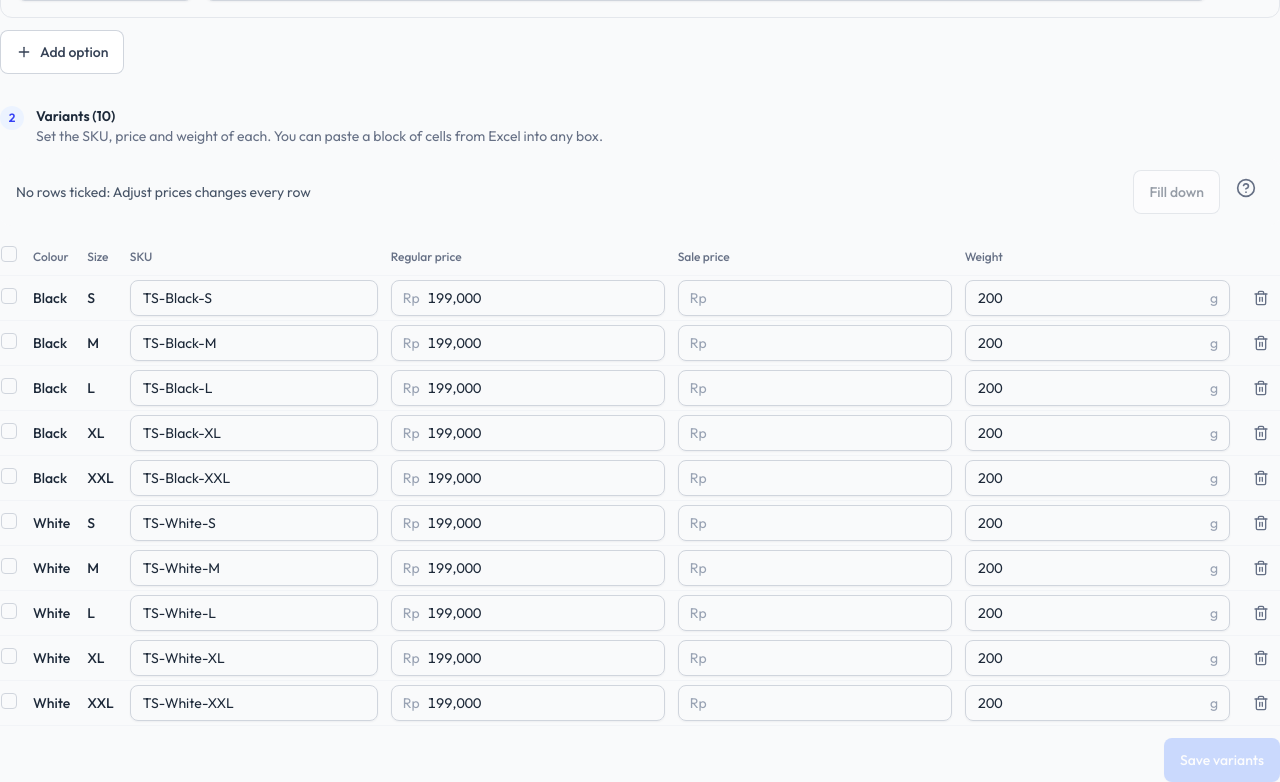
Test: VariantMatrix (P1-046) › brings removed variants back
(page scrolled)
Click the button named "Remove White / XXL": [1261, 703] box x1=1243 y1=685 x2=1279 y2=721
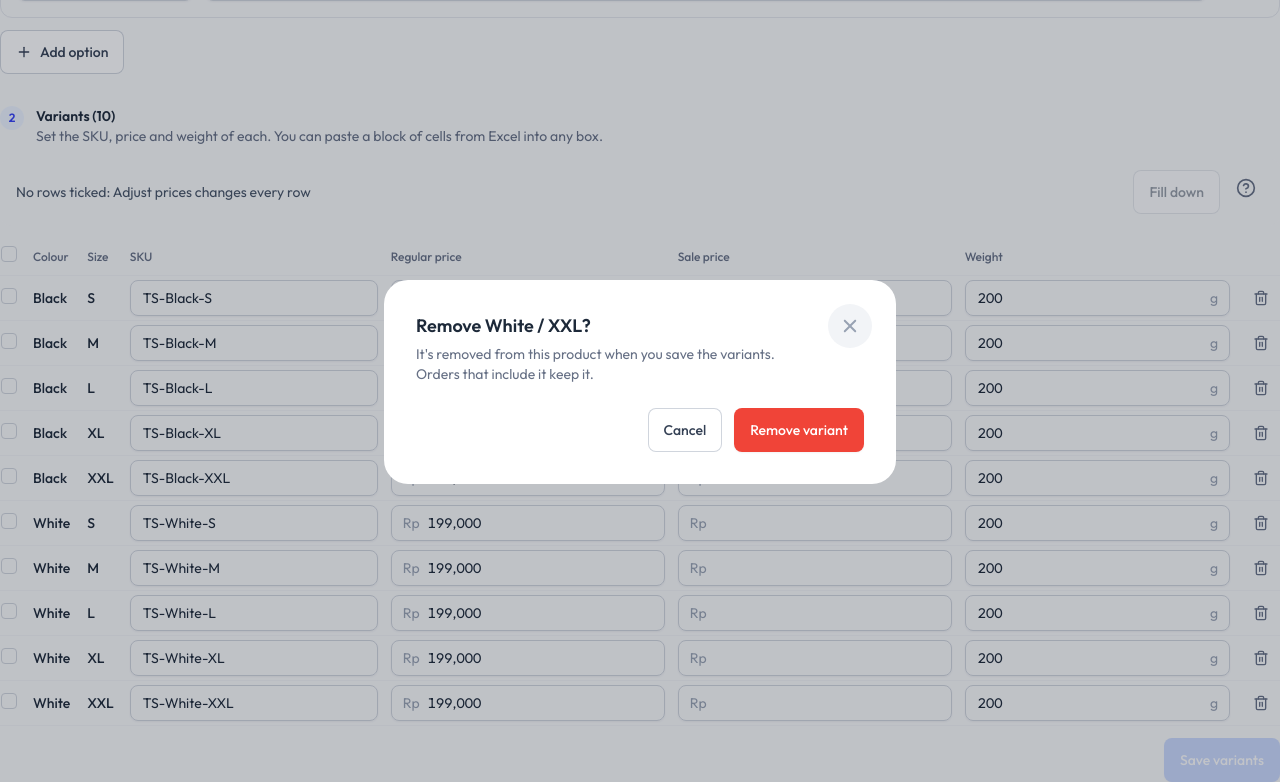
Click the button "Remove variant": [799, 430] box x1=734 y1=408 x2=864 y2=452
(page scrolled)
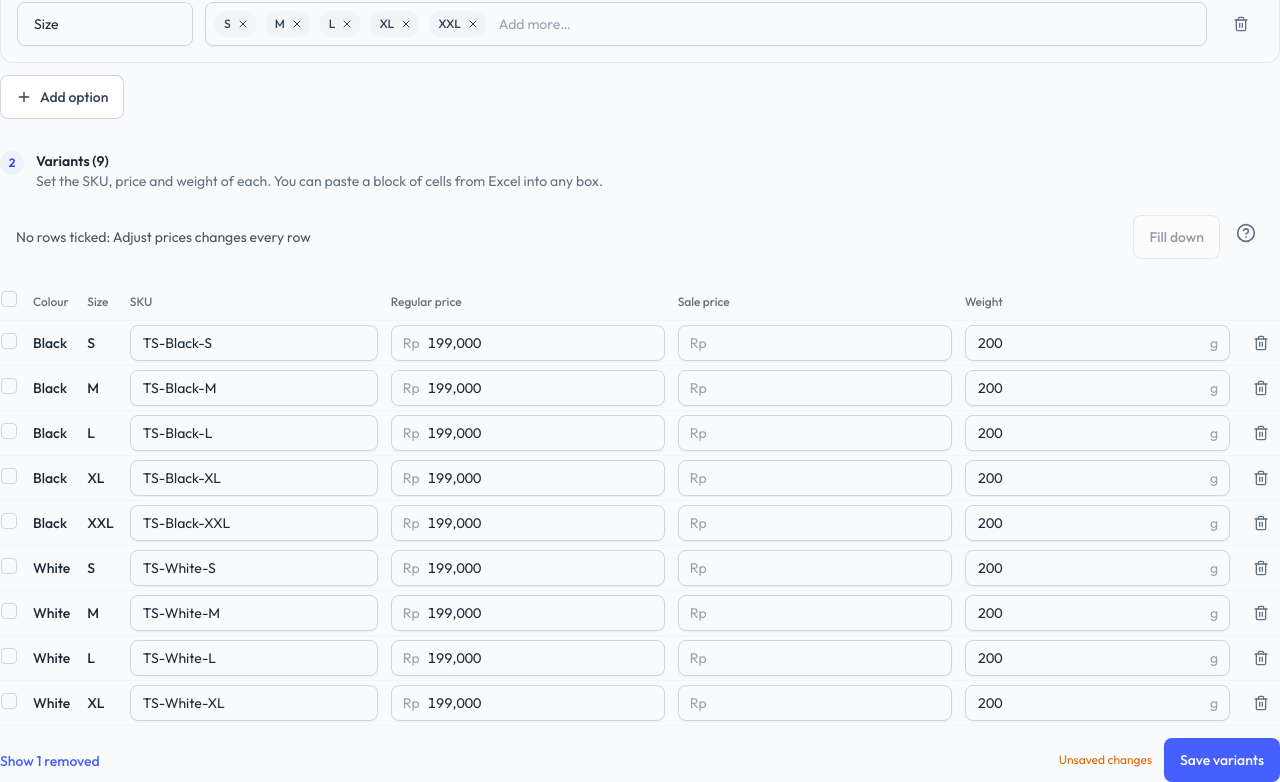
Click the button "Show 1 removed": [50, 761] box x1=0 y1=751 x2=100 y2=771
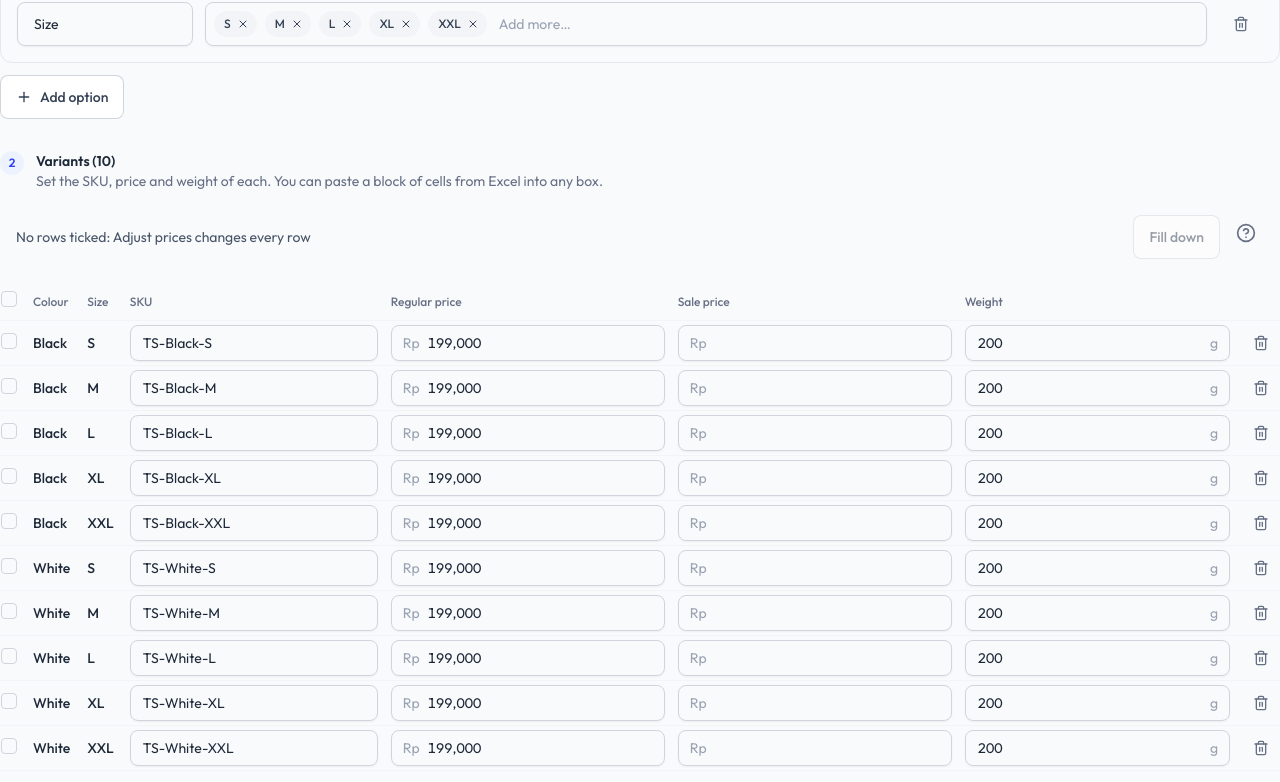
expect the field named "SKU for White / XXL" is shown: met, box x1=130 y1=730 x2=378 y2=766
